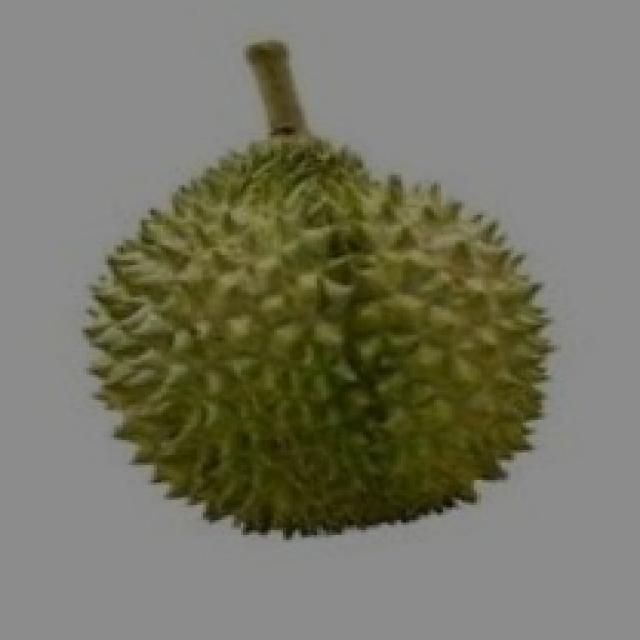fruit: (231, 175, 603, 583), (37, 198, 418, 590)
